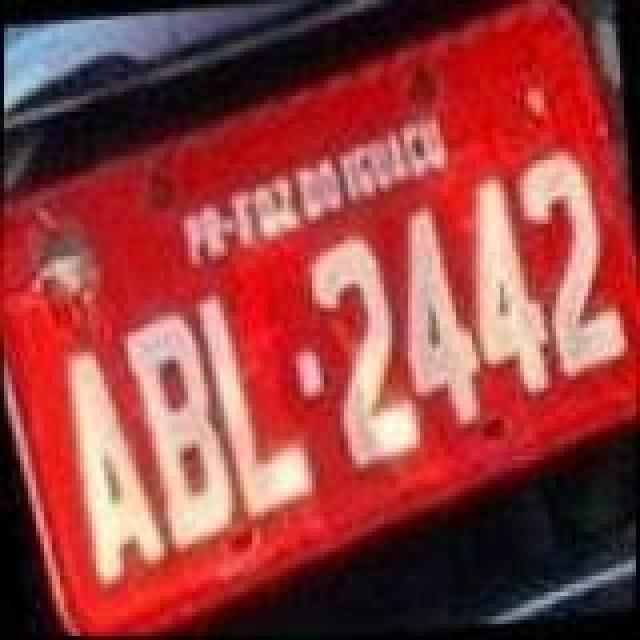2: (302, 226, 434, 474), (516, 146, 636, 382)
4: (388, 204, 492, 436), (454, 174, 554, 406)
A: (60, 344, 176, 592)
B: (118, 304, 246, 560)
L: (194, 282, 322, 526)
